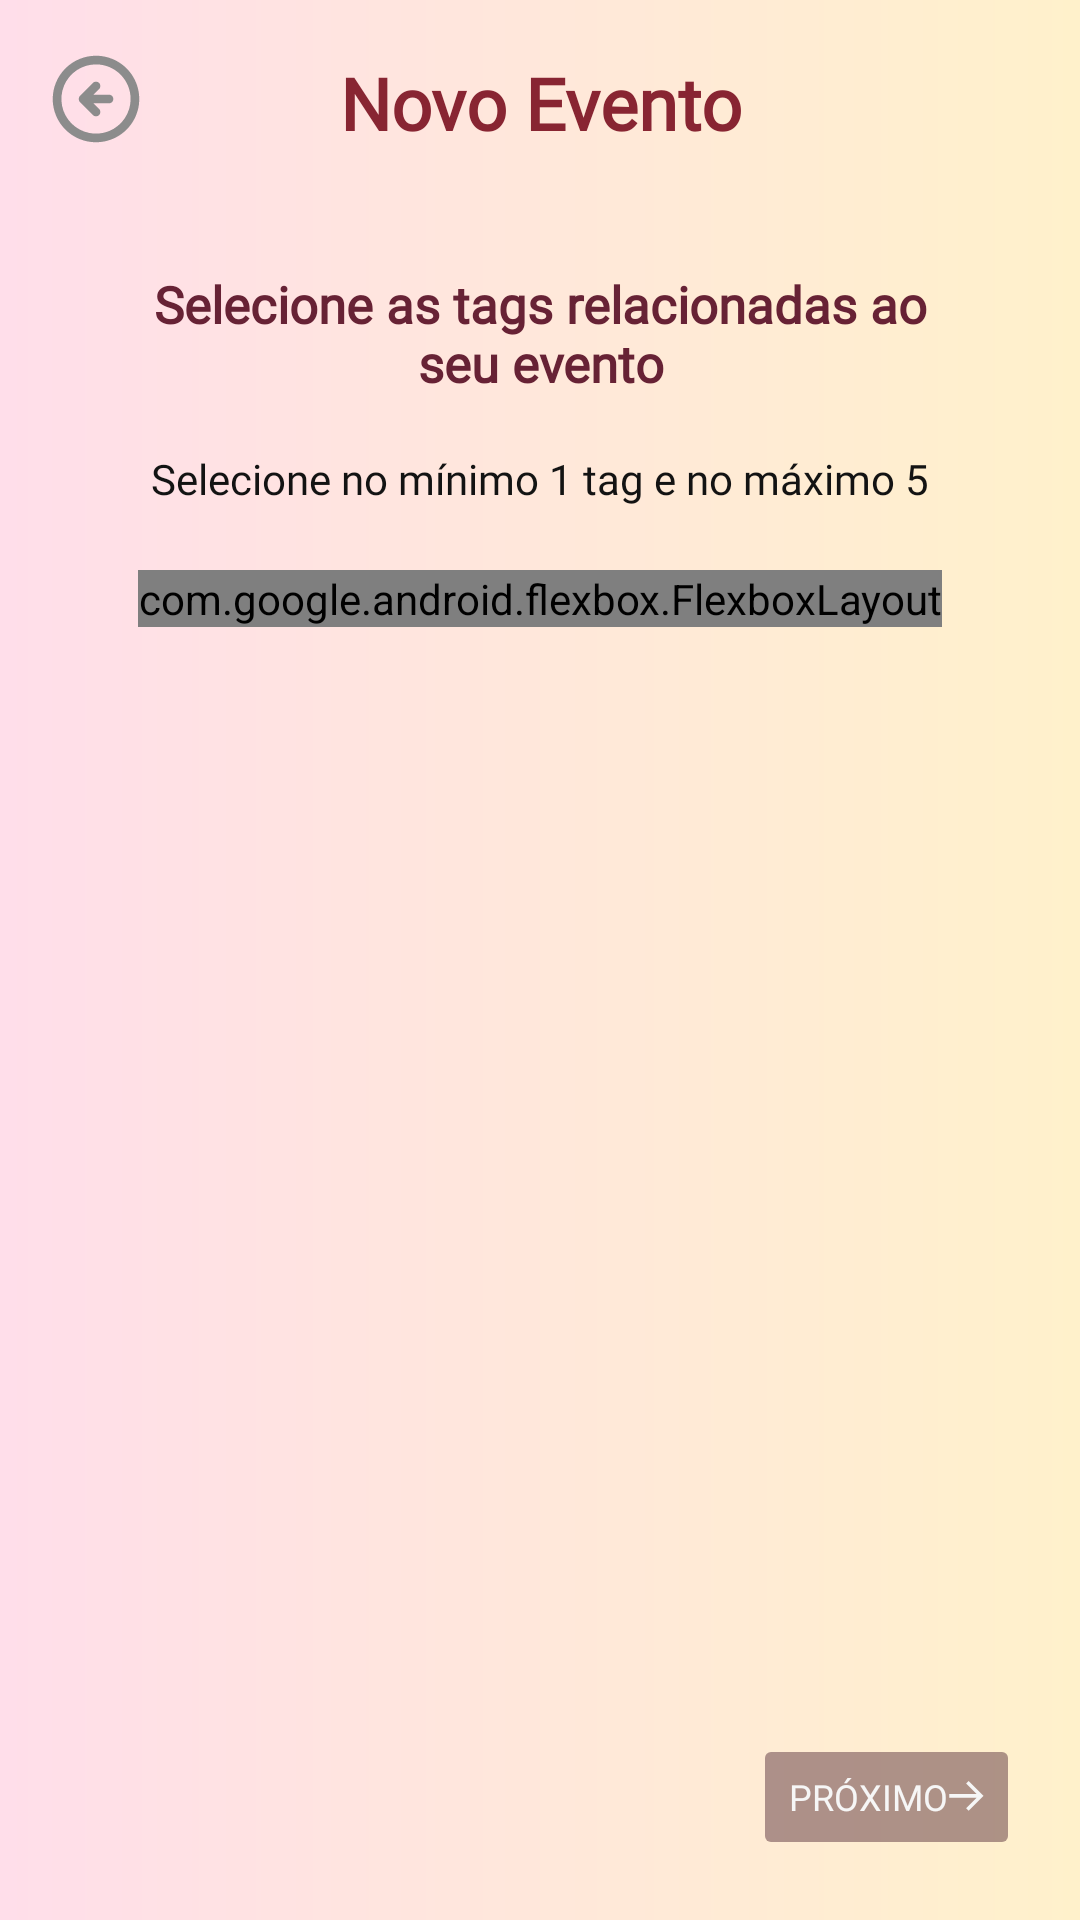

Icon bounding boxes for this 1080px×1920px phone screenshot, format Rect(x1, y1, x2, y2):
arrow: Rect(52, 55, 140, 143)
